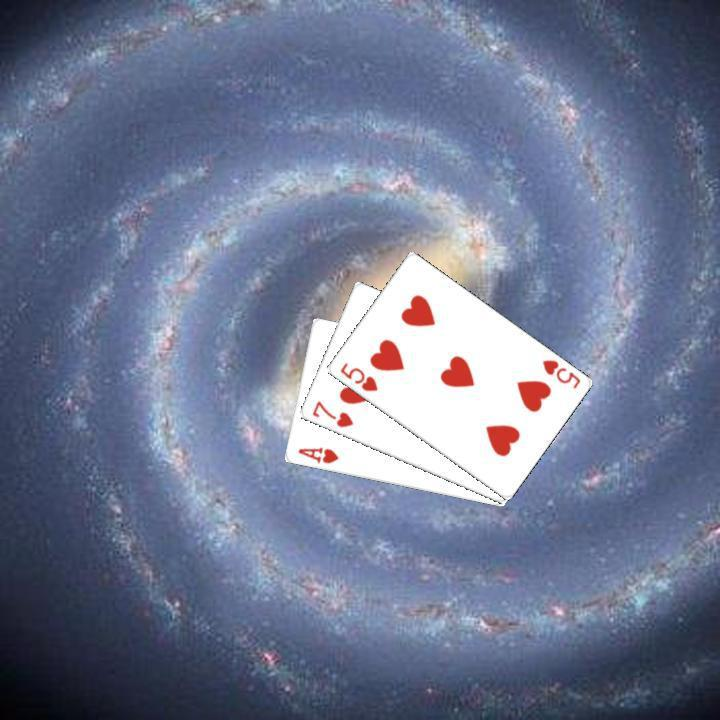5: (537, 355, 582, 391), (335, 358, 379, 394)
7: (307, 397, 355, 430)
A: (293, 443, 340, 466)
